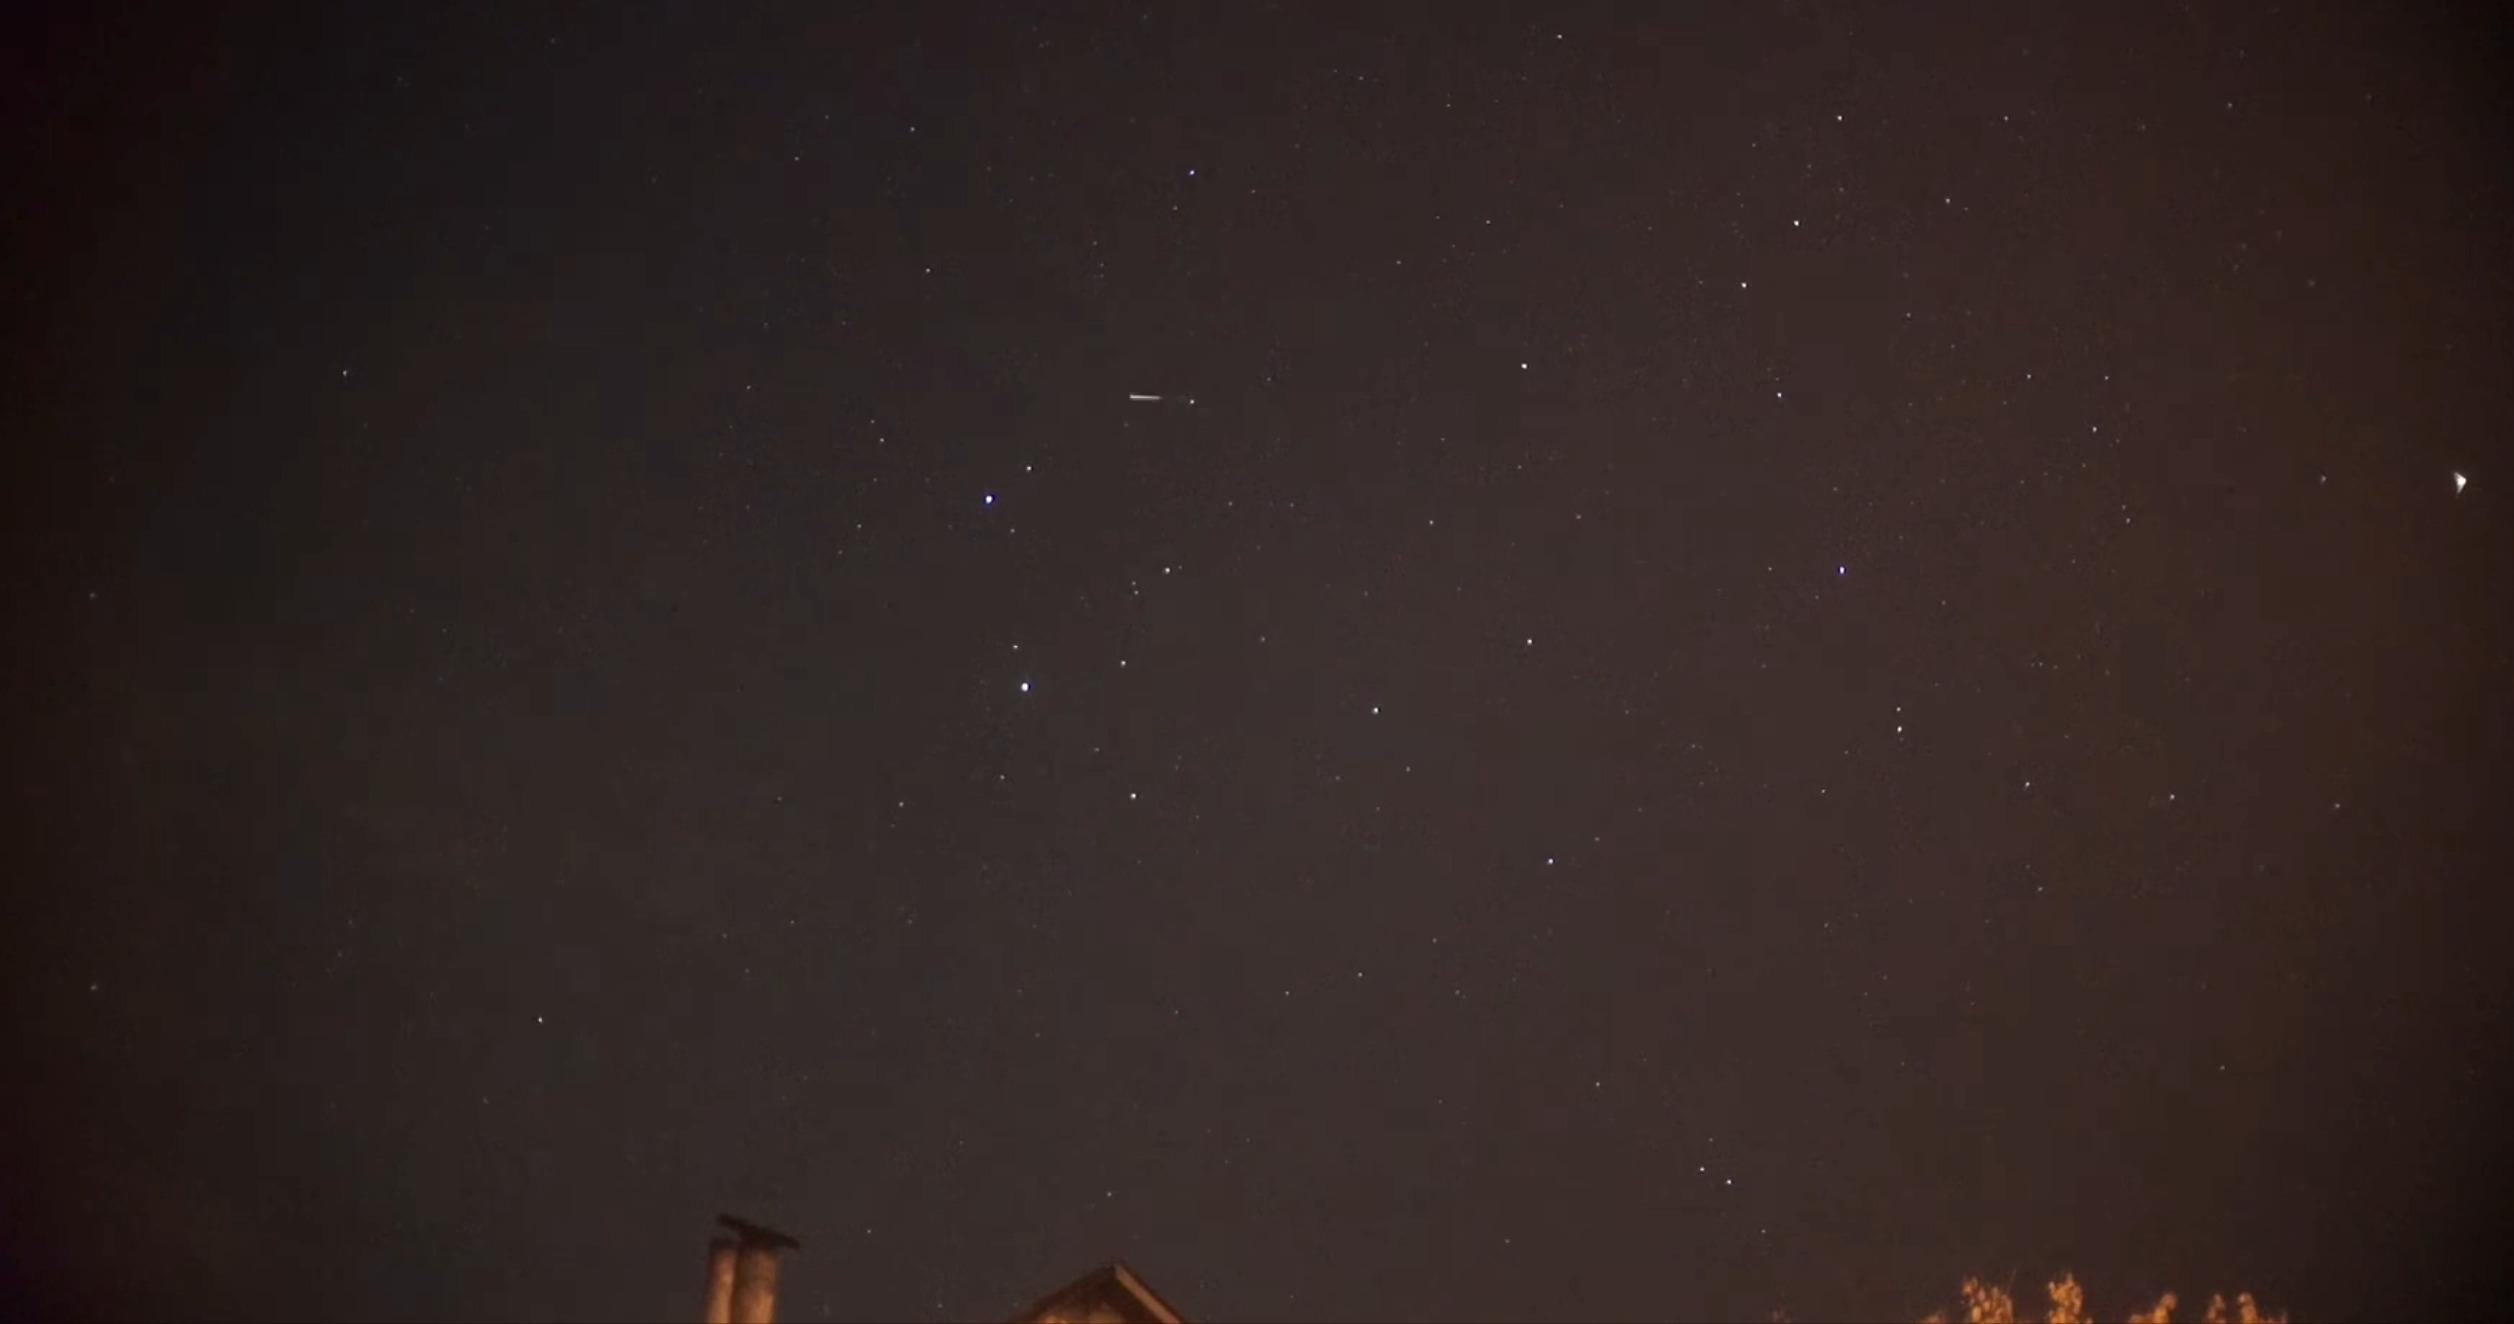meteorite: (1112, 373, 1195, 419)
